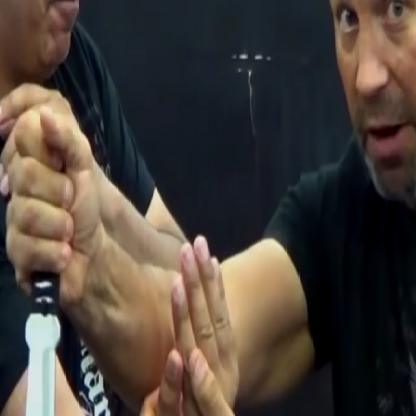knife: (3, 97, 87, 415)
